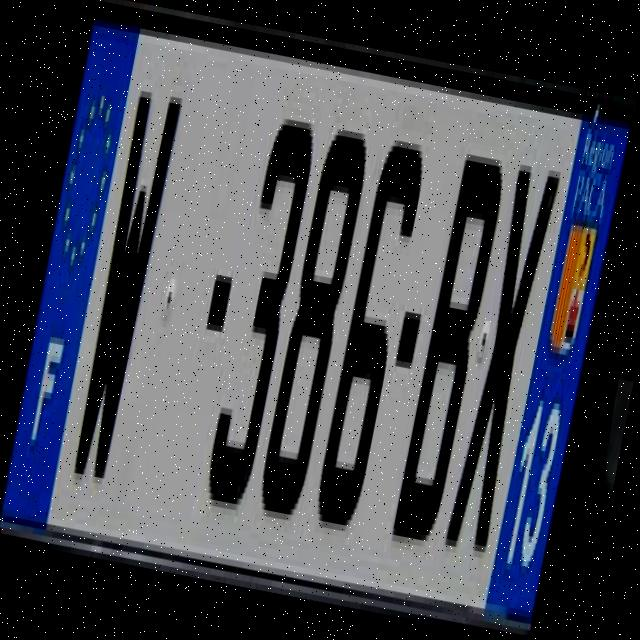EU: (0, 19, 630, 639)
France: (0, 14, 144, 547)
